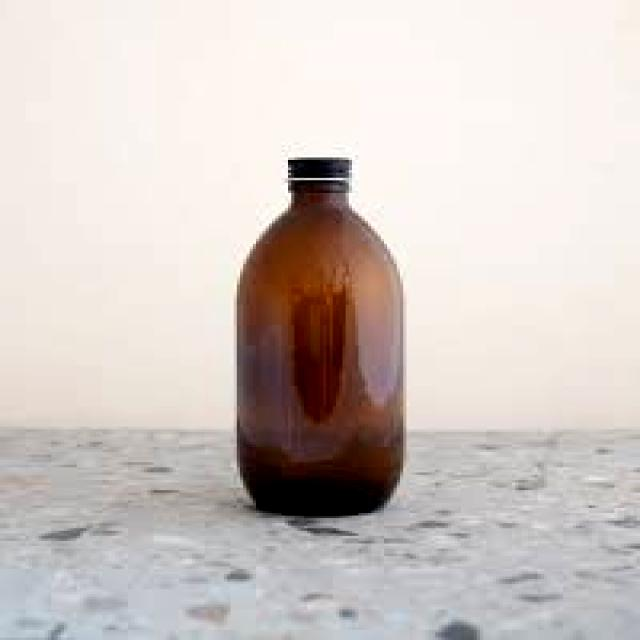Glass: (228, 149, 408, 519)
